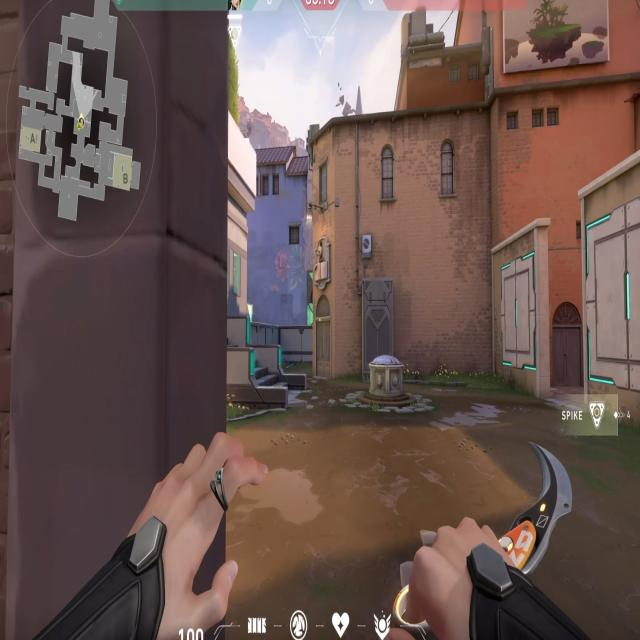Mid_Wall: (578, 197, 640, 411), (496, 237, 544, 386)
